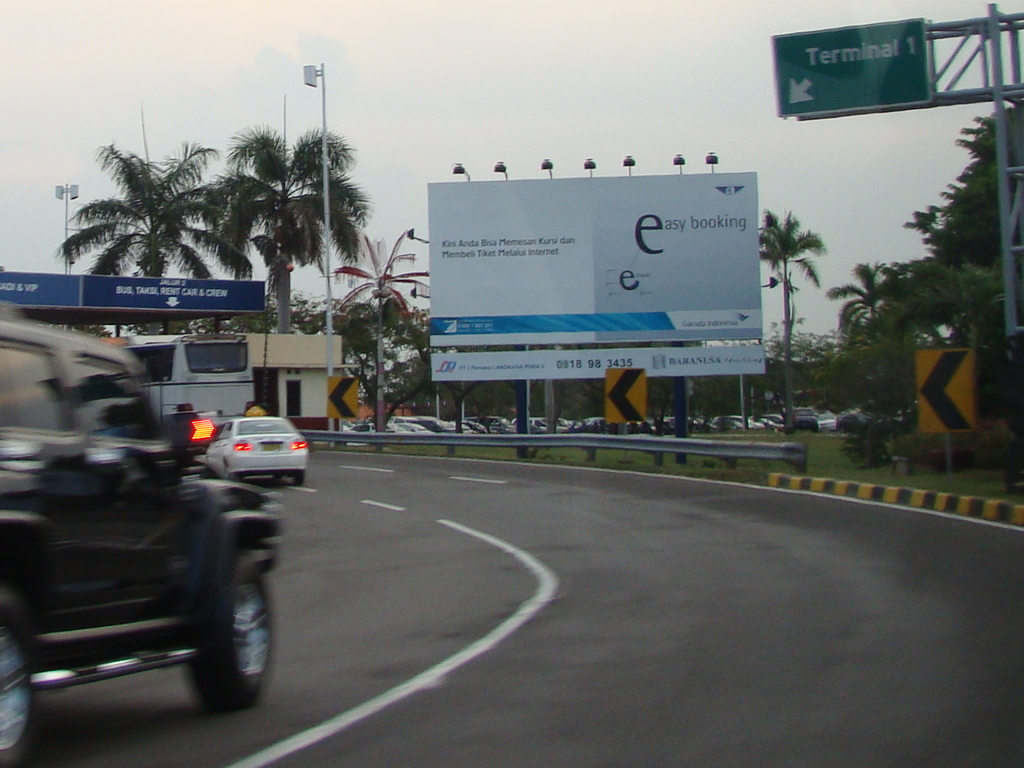Car: (0, 303, 281, 767), (339, 410, 860, 446), (206, 414, 307, 481)
